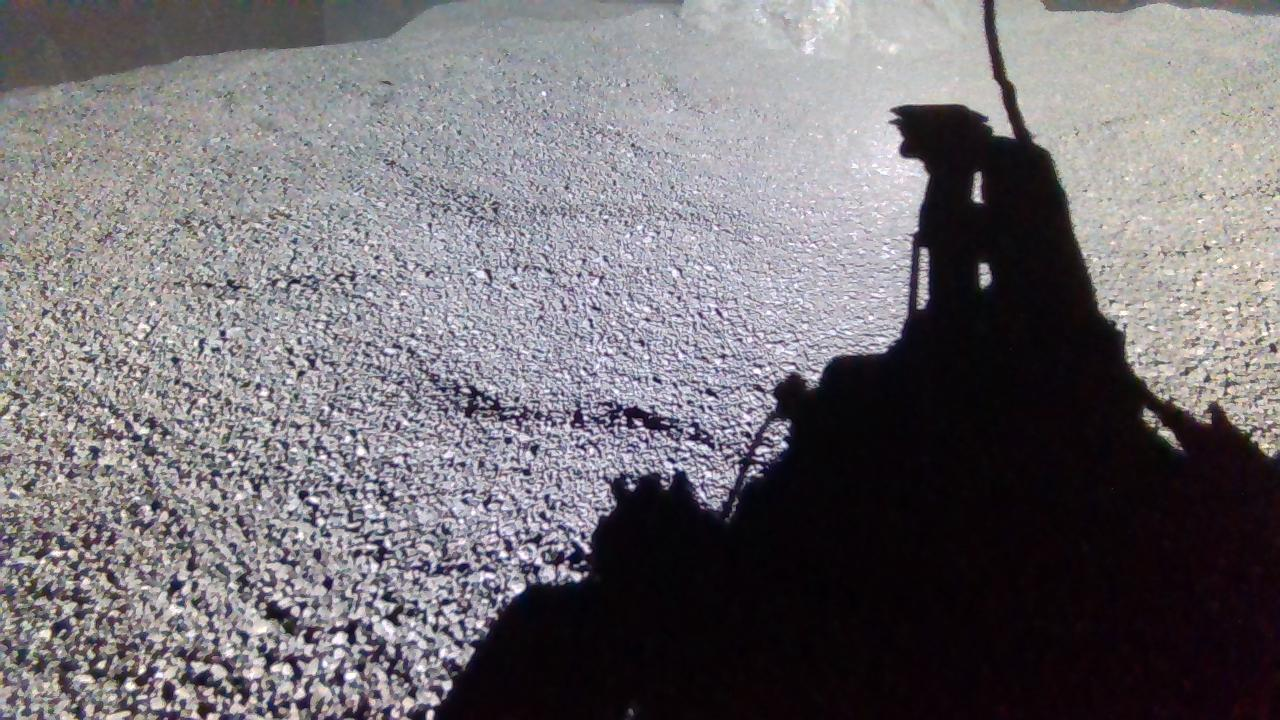rock: (681, 0, 971, 54)
